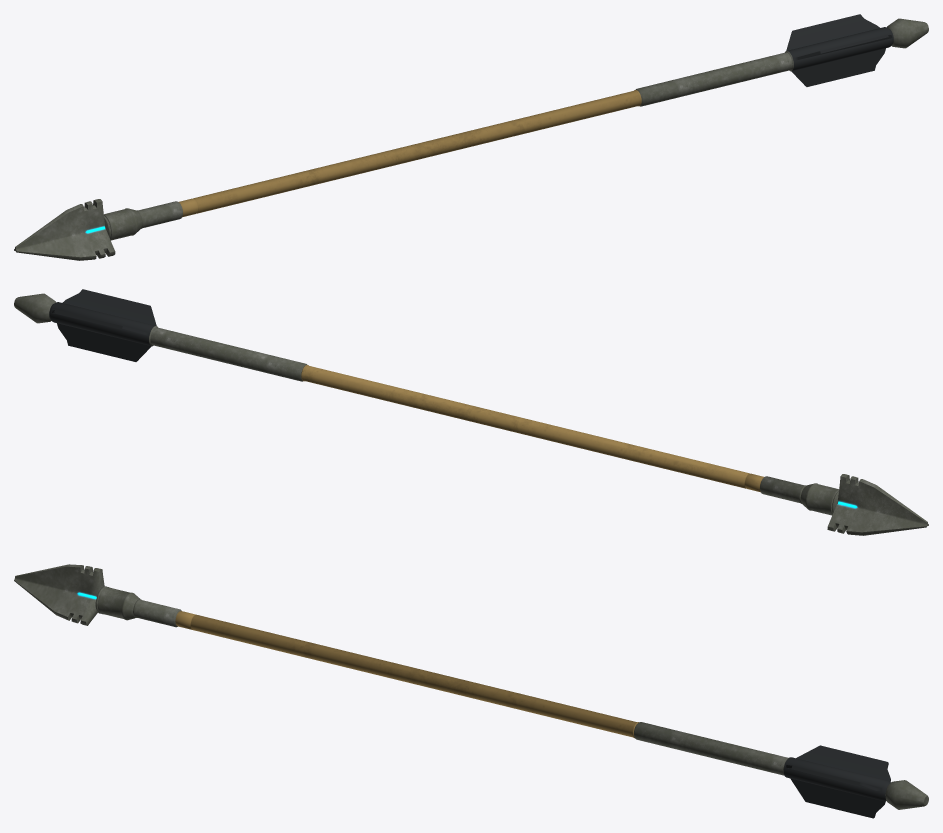
The model's file is overwatch_-_hanzos_arrow.glb.
3 views of the same model, one above another, from view 1: azimuth 30°, elevation 25°; view 2: azimuth 150°, elevation 25°; view 3: azimuth 330°, elevation 25° (orthographic).
Visible parts, largest first — view 1: hanzo_arrow_LP__0; view 2: hanzo_arrow_LP__0; view 3: hanzo_arrow_LP__0.
Boxes of the visible parts, x1,y1,x2,y2 form: hanzo_arrow_LP__0: (14,14,928,260); hanzo_arrow_LP__0: (14,289,928,535); hanzo_arrow_LP__0: (14,564,928,818).
Bounding box in the file's own units: 225 × 14.17 × 12.54.
1 material, 1 textured.
